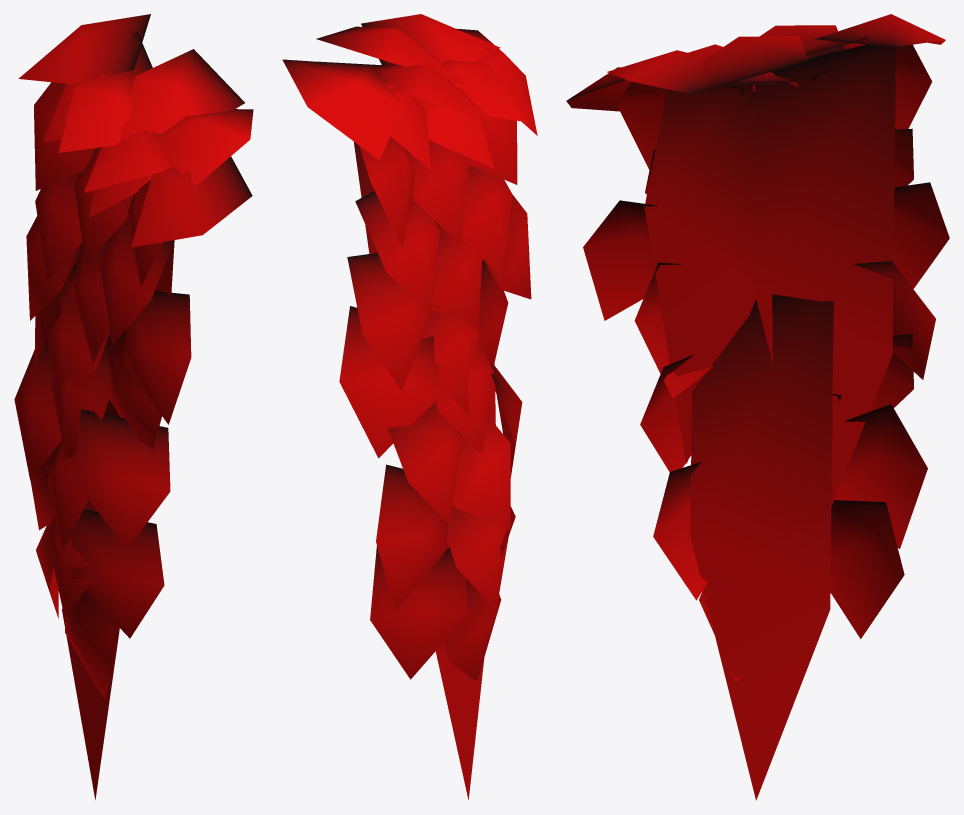
Rendered from SM_Vines_06.fbx.
3 renders of one model, left to right at view 1: azimuth 30°, elevation 25°; view 2: azimuth 150°, elevation 25°; view 3: azimuth 270°, elevation 25°, orthographic. The views are drawn at different scales.
Visible parts, largest first — view 1: SM_Vines_06_LOD0; view 2: SM_Vines_06_LOD0; view 3: SM_Vines_06_LOD0.
Part boxes in pixels (box(x1,y1,x2,y2)): SM_Vines_06_LOD0: box(14, 14, 253, 799); SM_Vines_06_LOD0: box(282, 14, 537, 799); SM_Vines_06_LOD0: box(566, 14, 949, 800).
Bounding box in the file's own units: 124 × 217 × 511.
